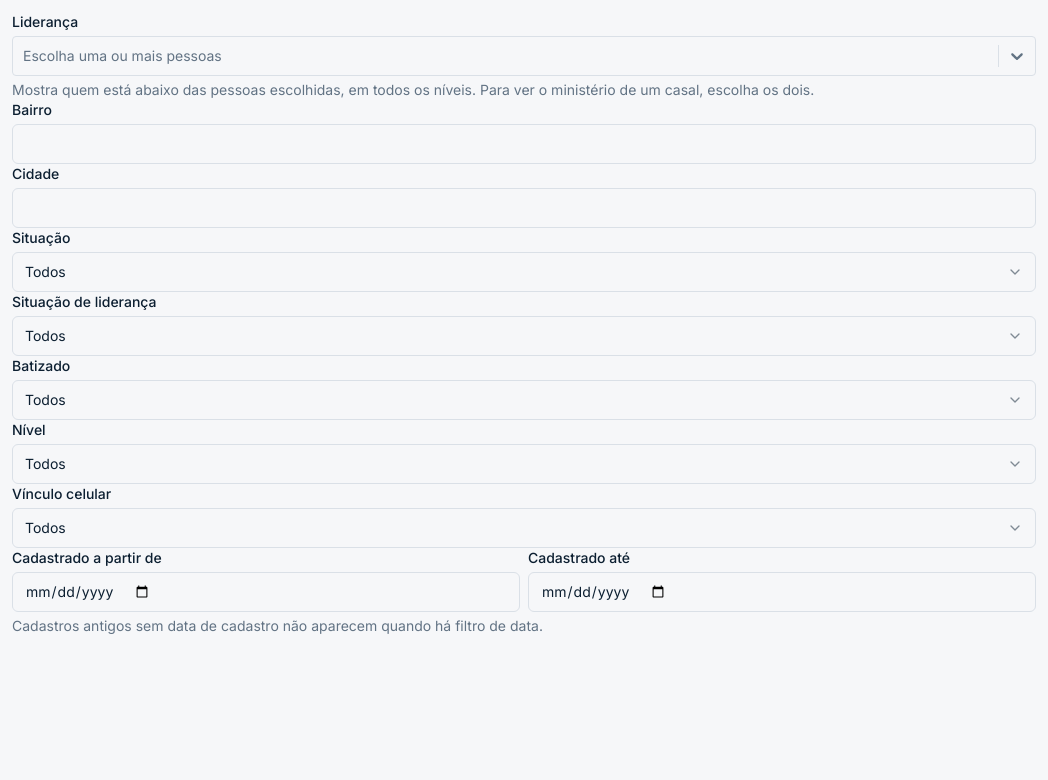
Test: MemberFilters, datas no painel (E2.07, P54) › ao sair do campo com o ano incompleto, mostra a data inválida
The image size is (1048, 780).
Type "0202-11-22" into the date field labelled "Cadastrado a partir de" at [266, 592], box [12,572,520,612]
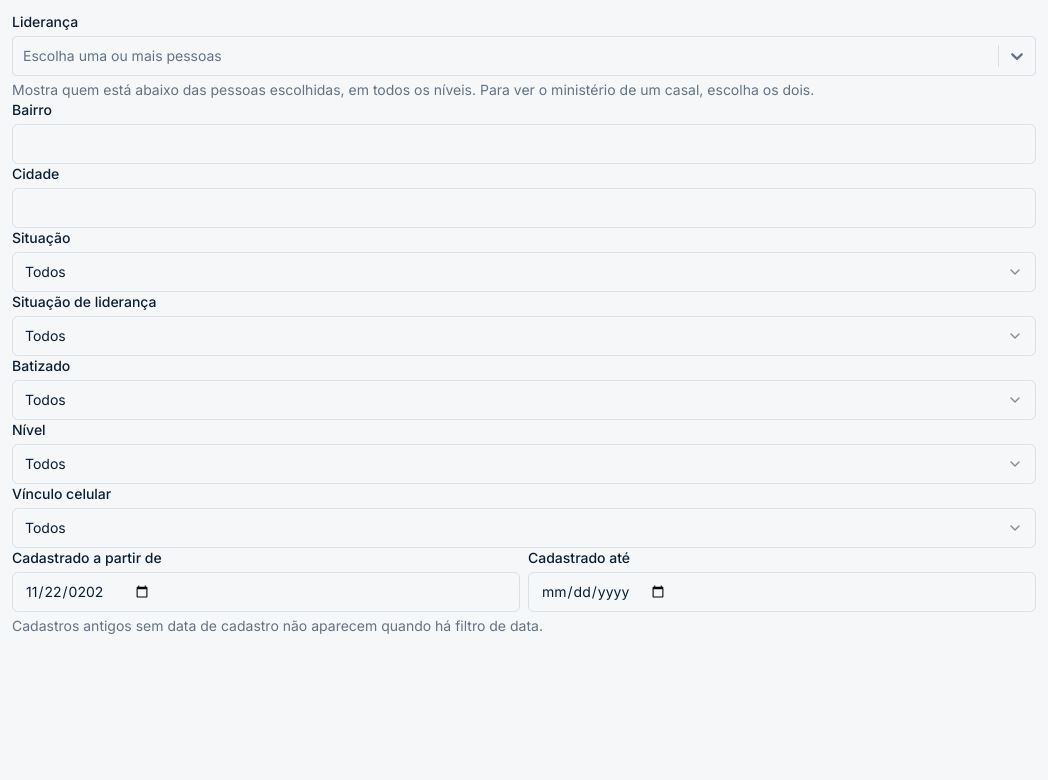
Leave the date field labelled "Cadastrado a partir de", box [12,572,520,612]
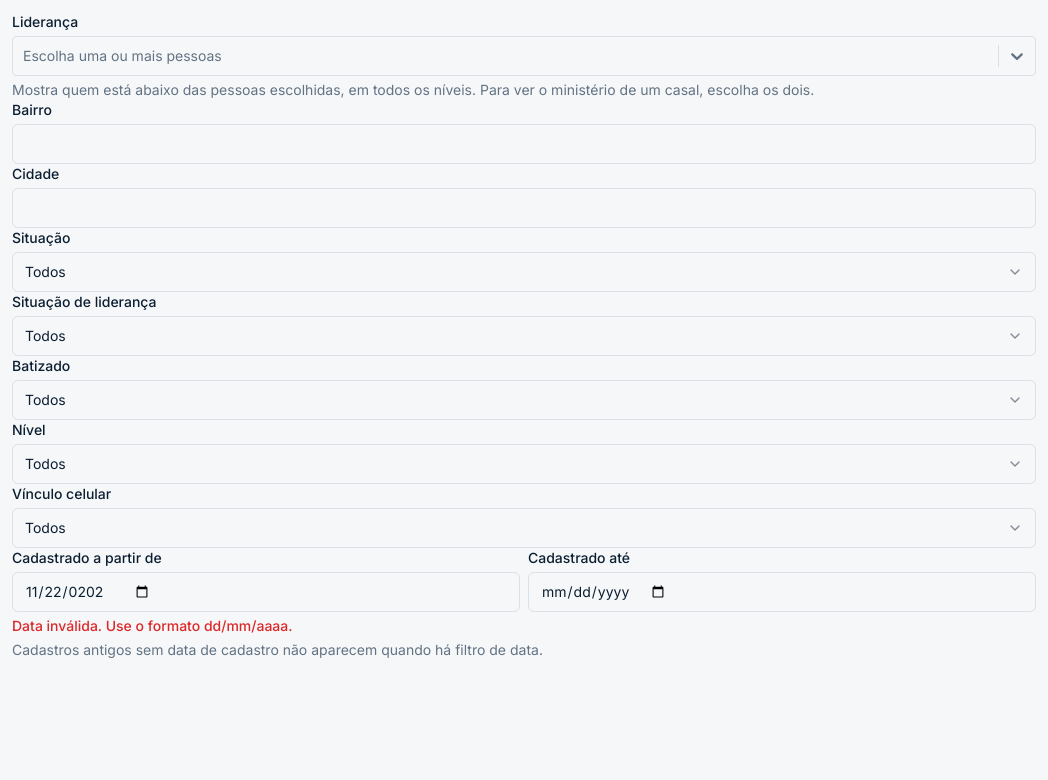
Now the text "Data inválida. Use o formato dd/mm/aaaa." is shown, box [12,617,292,634]
